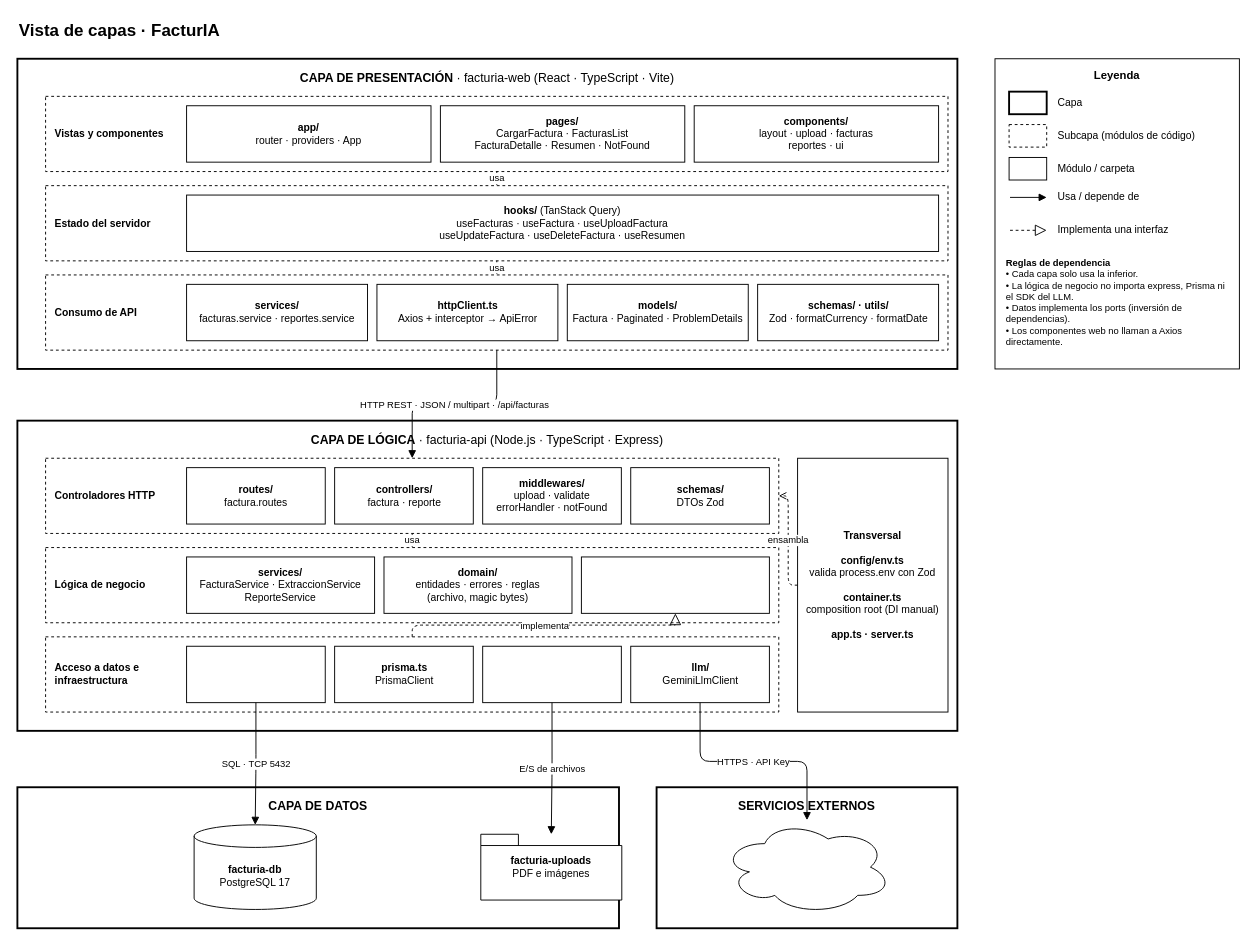
This 1256x945 diagram has some shape labels left out. Each missing label, with the centre of its shape:
ports/ «interface» FacturaRepository · LlmClient FileStorage: point 674,584
repositories/ PrismaFacturaRepository: point 255,674
storage/ LocalFileStorage: point 551,674
«external» Google Gemini API: point 806,866
